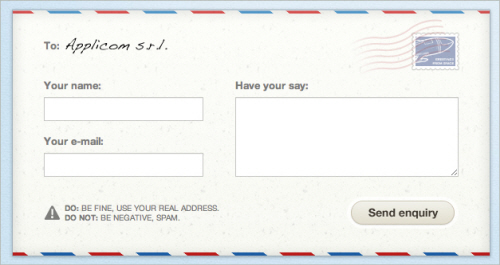_form_: (228, 9, 467, 241), (1, 1, 221, 239)
button: (349, 200, 455, 225)
field: (234, 95, 459, 179), (43, 152, 204, 177), (43, 96, 203, 121)
field_with_label: (232, 80, 461, 182), (41, 135, 206, 178), (42, 80, 206, 123)
